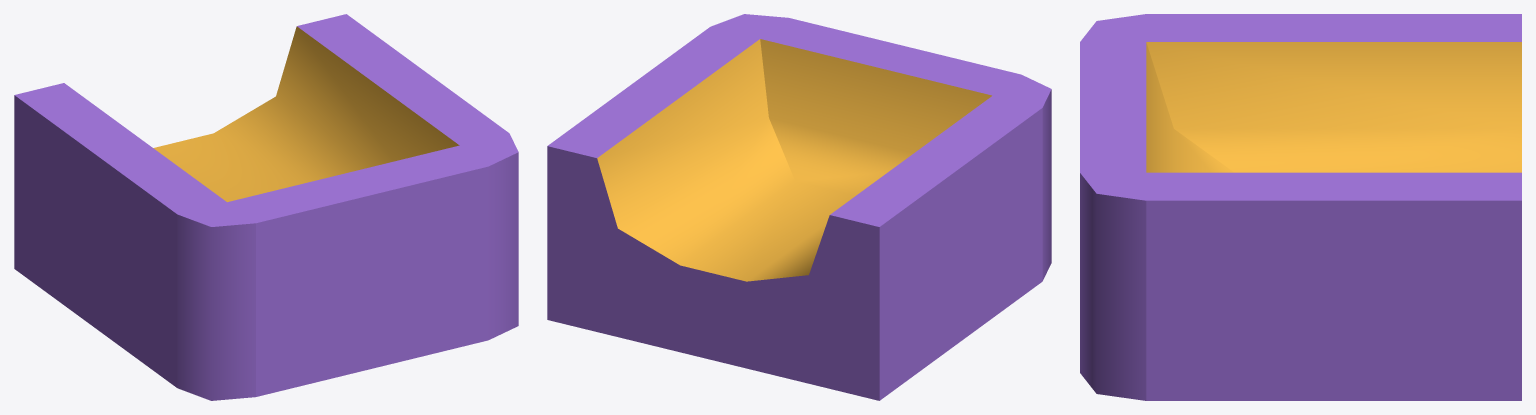
The model's file is end_rounded.glb.
The picture shows the model from 3 angles, left to right: view 1: azimuth 30°, elevation 25°; view 2: azimuth 150°, elevation 25°; view 3: azimuth 270°, elevation 25°; orthographic projection. The views are drawn at different scales.
Visible parts, largest first — view 1: end-rounded; view 2: end-rounded; view 3: end-rounded.
Boxes of the visible parts, x1,y1,x2,y2 form: end-rounded: (14,14,518,400); end-rounded: (547,14,1051,400); end-rounded: (1080,14,1521,400).
Bounding box in the file's own units: 1 × 0.5 × 1.
1 material, 1 textured.
